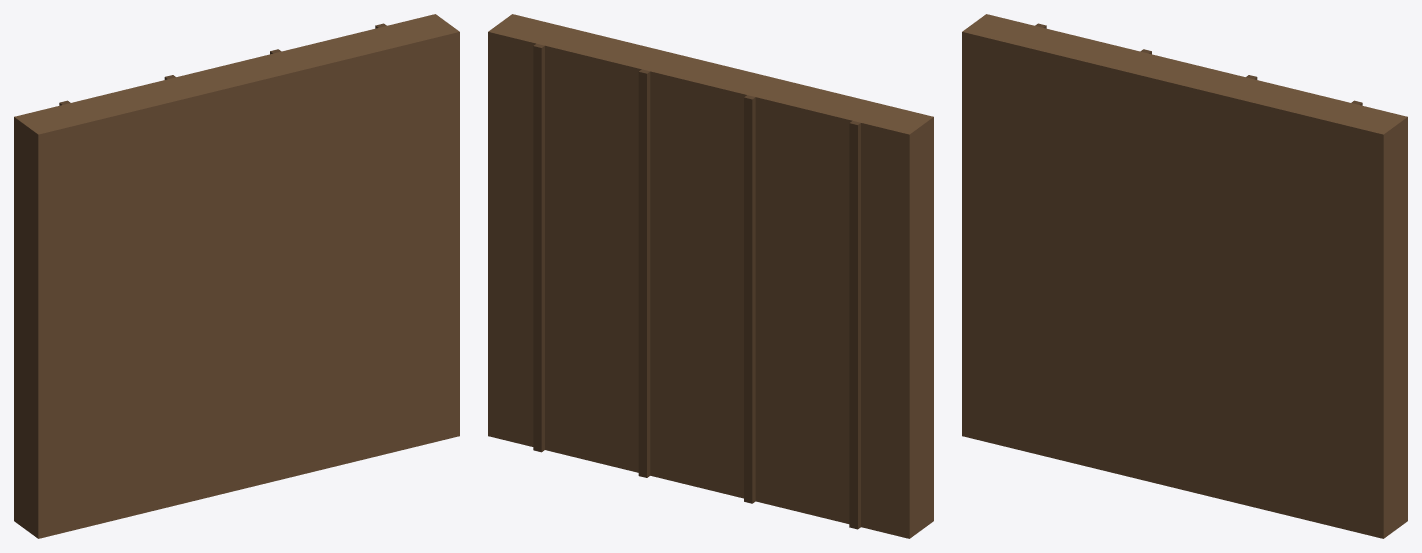
File: Kit_wood_wall.fbx
3 views of the same model, side by side, from view 1: azimuth 30°, elevation 25°; view 2: azimuth 150°, elevation 25°; view 3: azimuth 330°, elevation 25° (orthographic).
Parts seen in each view (by area): view 1: Wall; view 2: Wall, Batten2, Batten0, Batten1, Batten3; view 3: Wall.
Part boxes in pixels (left/top/right/bottom): Wall: left=14, top=14, right=459, bottom=538; Wall: left=488, top=14, right=933, bottom=538; Batten2: left=638, top=69, right=650, bottom=477; Batten0: left=849, top=121, right=860, bottom=529; Batten1: left=744, top=95, right=755, bottom=503; Batten3: left=533, top=43, right=544, bottom=452; Wall: left=962, top=14, right=1407, bottom=538.
Bounding box in the file's own units: 300 × 34 × 275.
